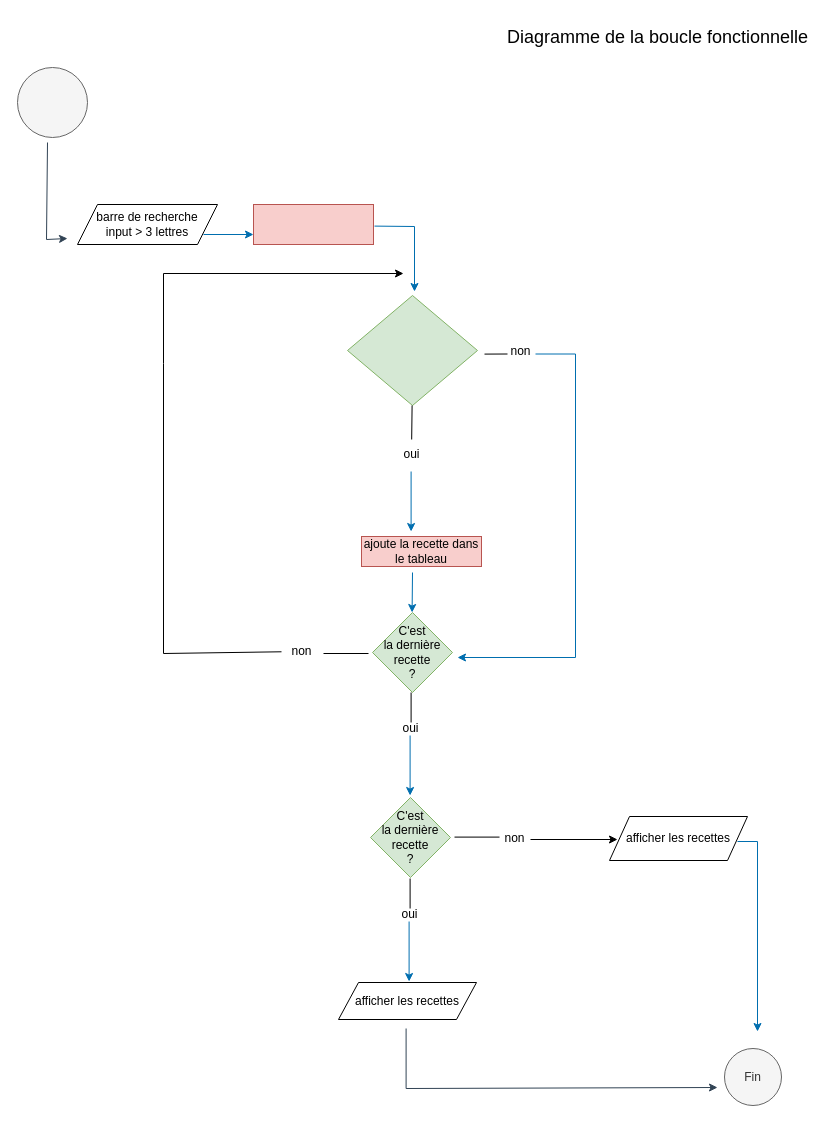
The diagram is 835 pixels wide and 1123 high, and some of its shapes have lost their labels. Each missing label, with the centre of its shape:
"Début" goes at pixel 52 102.
"la recherche correspond à l'ingrédients ou à la description d'une des recettes" goes at pixel 412 350.
"recherche dans les recettes" goes at pixel 313 224.
